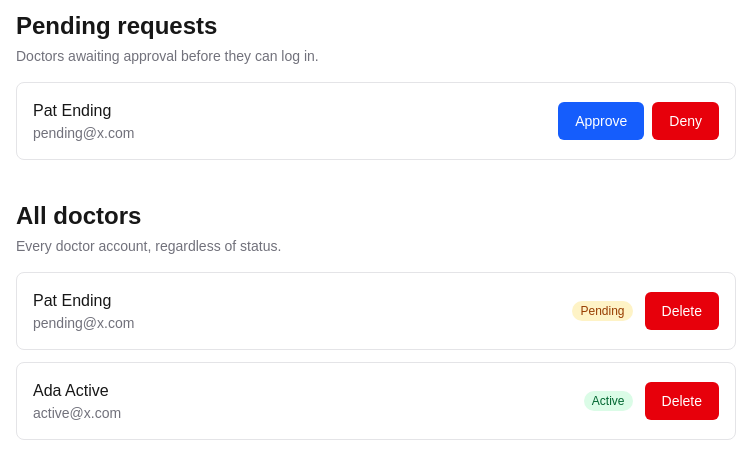
Test: AdminPanelPage › approves a pending request and refetches
Click the button "Approve" at (601, 121), box [558,102,644,140]
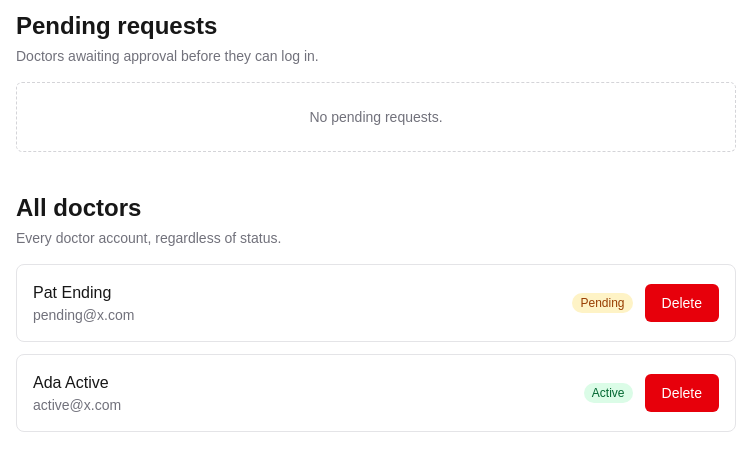
Expected: the text "No pending requests." is shown, [16,82,736,152]
